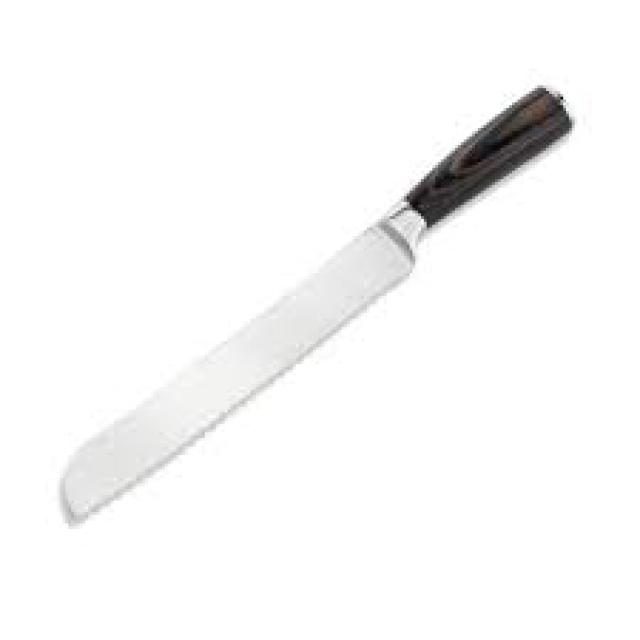Knife: (60, 88, 569, 521)
